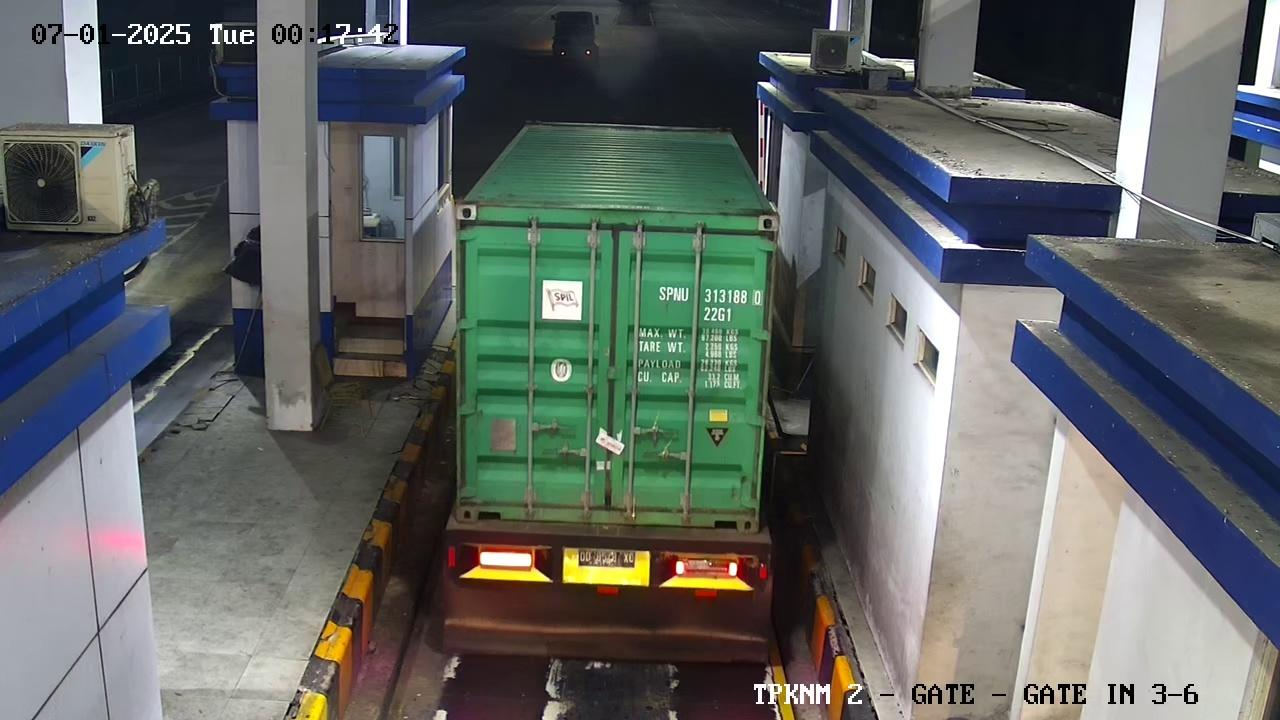Container_ID: (637, 276, 777, 327)
plate_number: (570, 535, 651, 576)
